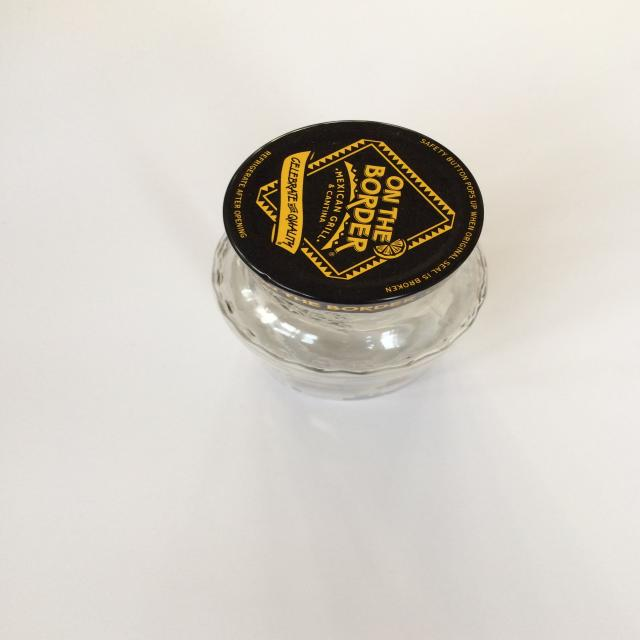glass: (210, 119, 488, 400)
